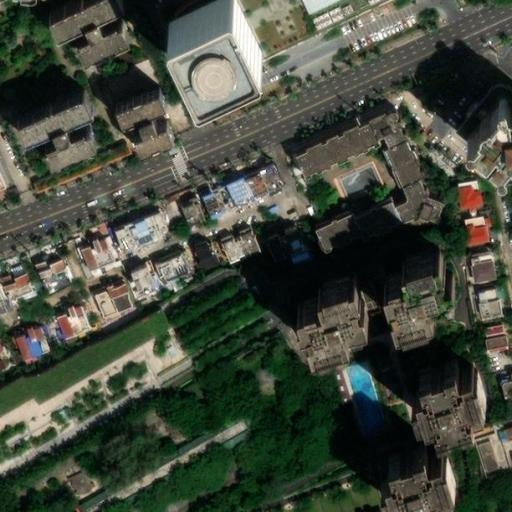building: (0, 320, 171, 425), (198, 0, 425, 71), (192, 5, 286, 99), (25, 92, 107, 167), (69, 3, 148, 80), (303, 281, 375, 359), (416, 368, 489, 435), (389, 257, 450, 334), (385, 453, 454, 512), (119, 85, 182, 149), (323, 218, 374, 263), (405, 190, 455, 233), (121, 222, 174, 261), (365, 209, 412, 249), (397, 151, 435, 197), (377, 122, 420, 158), (101, 288, 140, 327), (226, 234, 267, 271), (473, 430, 506, 475), (4, 273, 41, 311), (19, 333, 56, 370), (60, 311, 97, 347), (160, 256, 198, 289), (42, 260, 76, 296), (88, 245, 122, 281), (62, 464, 95, 497), (480, 320, 510, 353), (460, 187, 490, 219), (287, 233, 314, 267), (271, 240, 298, 273), (188, 200, 213, 234), (468, 220, 495, 250), (475, 259, 503, 287), (136, 275, 163, 304), (208, 195, 235, 224), (484, 292, 509, 322), (237, 185, 263, 212), (202, 250, 226, 277), (267, 174, 289, 199), (255, 180, 275, 204), (496, 421, 512, 450), (497, 370, 512, 400), (0, 350, 14, 378)
